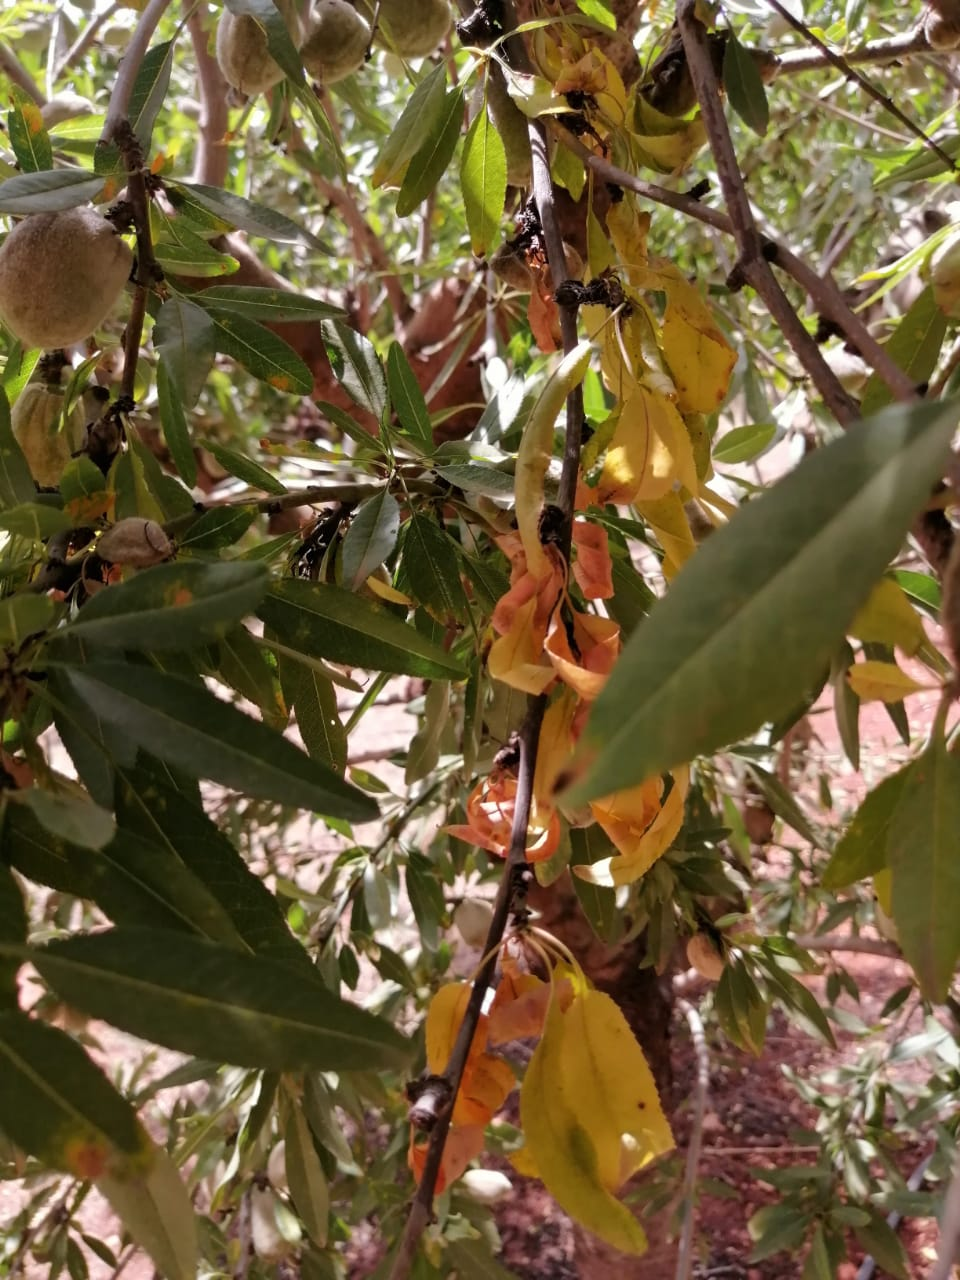chancre fusicocum: (406, 271, 719, 1258)
